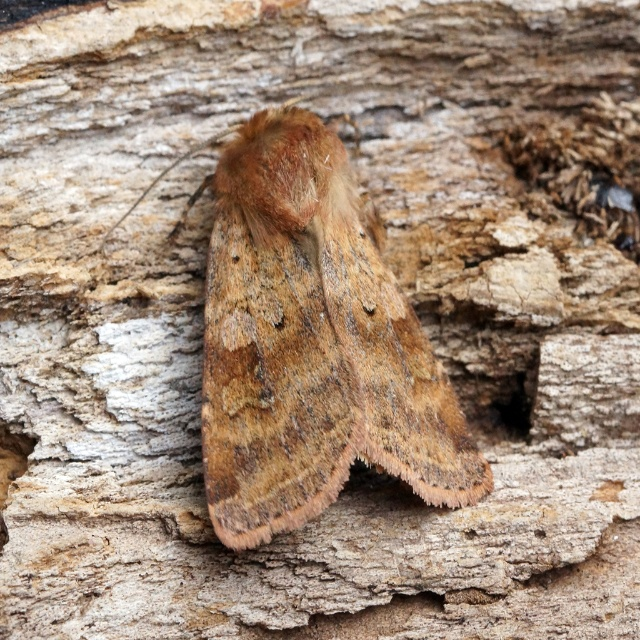Moths and butterflies: (94, 91, 496, 551)
